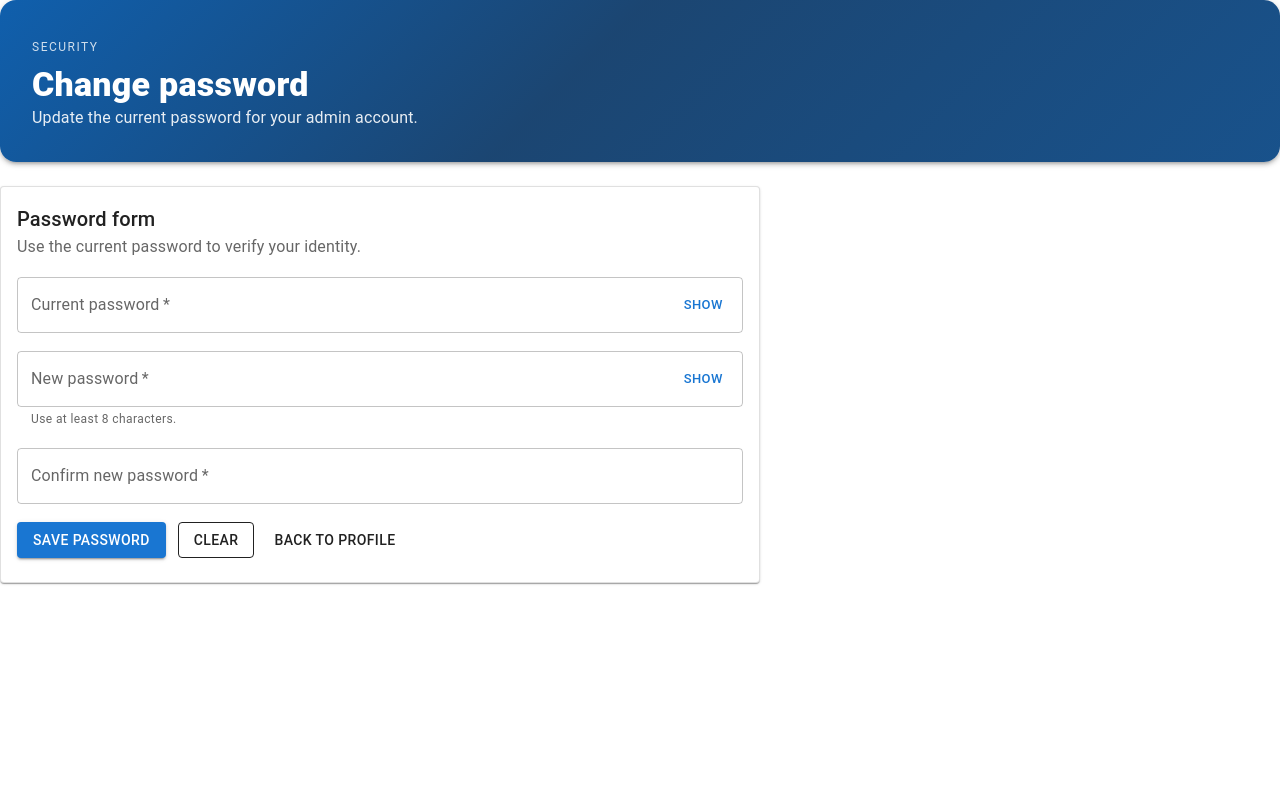
ChangePasswordPage › submits the password change form
Expected: the heading "Change password" is shown, [32, 64, 309, 104]
Type "OldPass123!" into the password field labelled "Current password *" at (347, 305), box [17, 277, 678, 333]
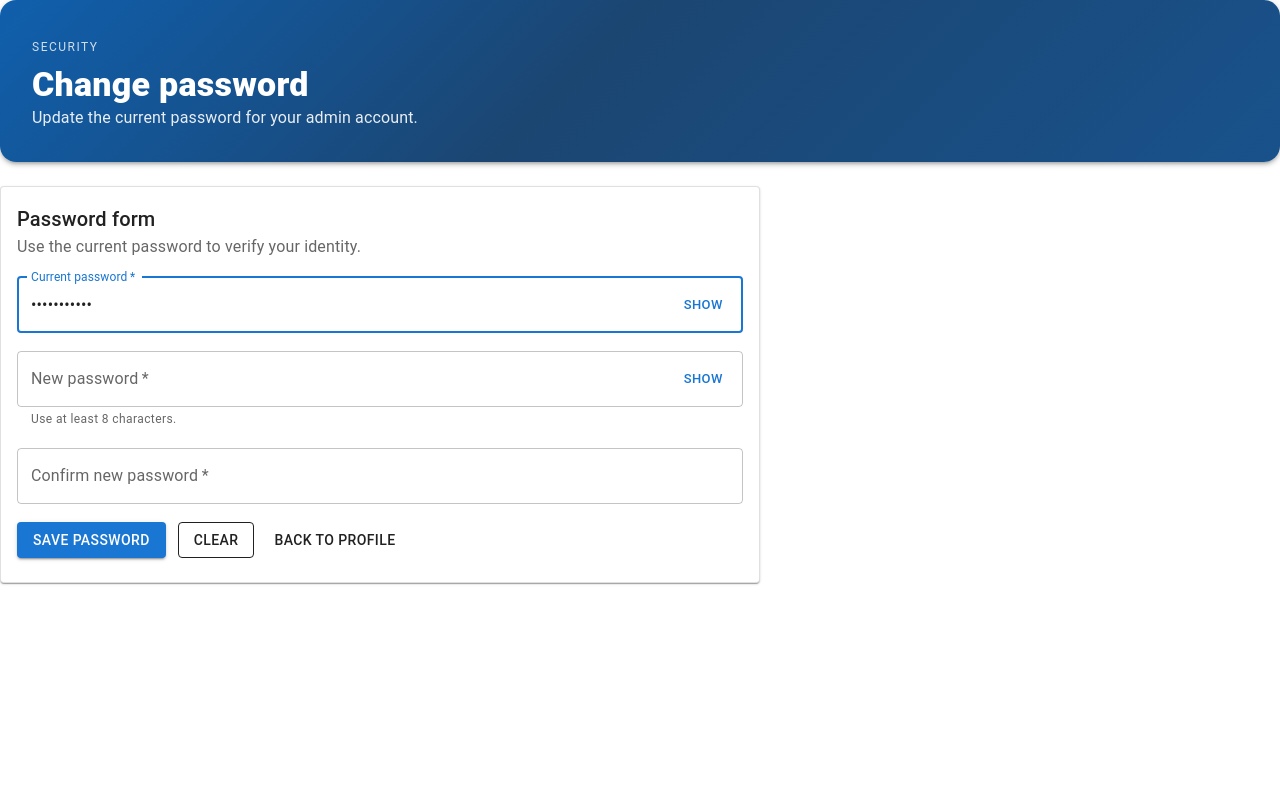
Type "NewPass123!" into the password field labelled "New password *" at (347, 379), box [17, 351, 678, 407]
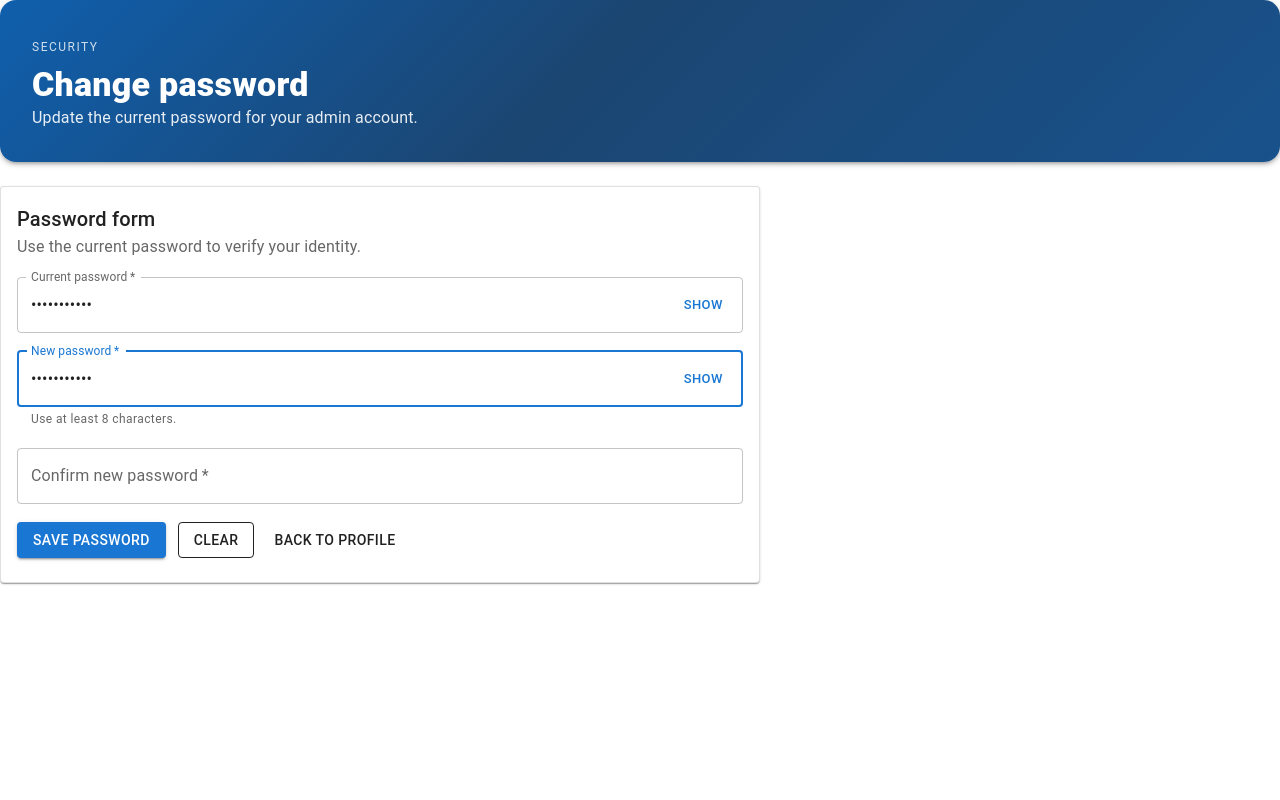
Type "NewPass123!" into the password field labelled "Confirm new password *" at (380, 476), box [17, 448, 743, 504]
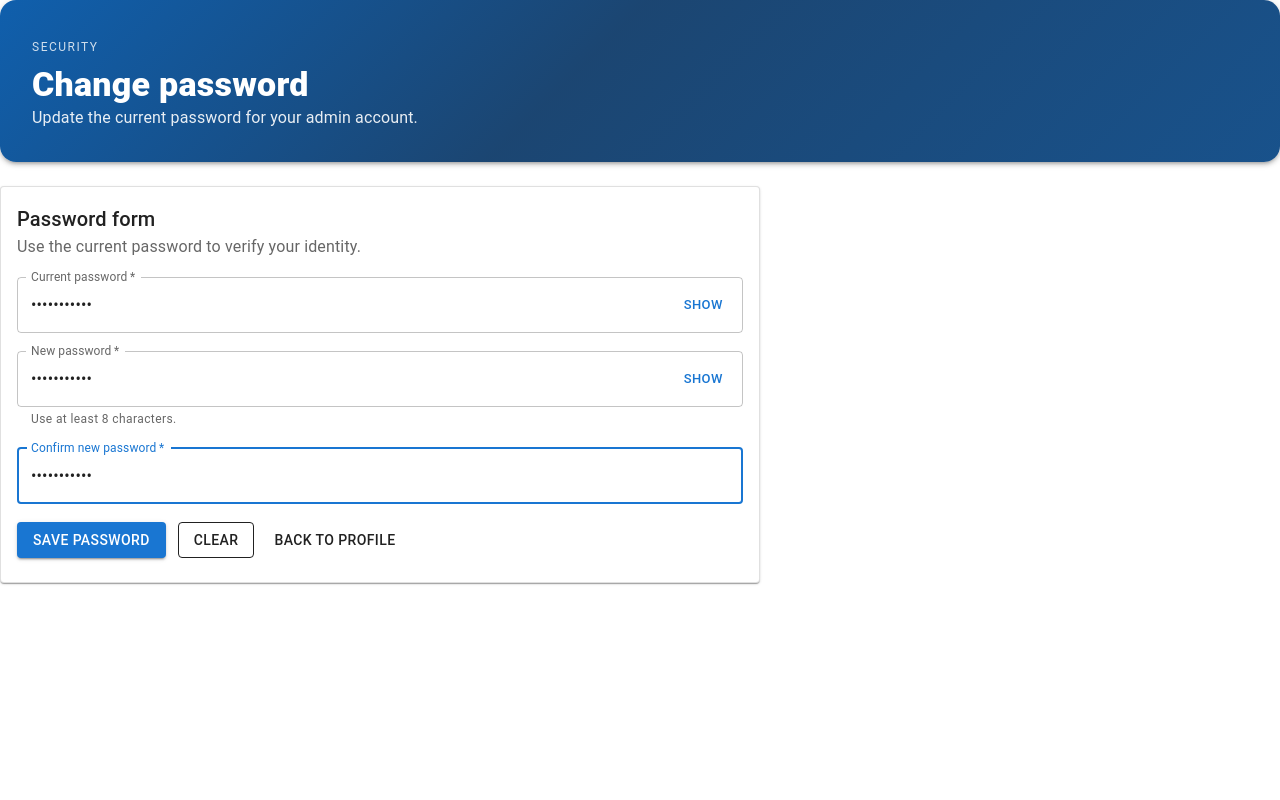
Click the button "Save password" at (91, 540), box [17, 522, 166, 558]
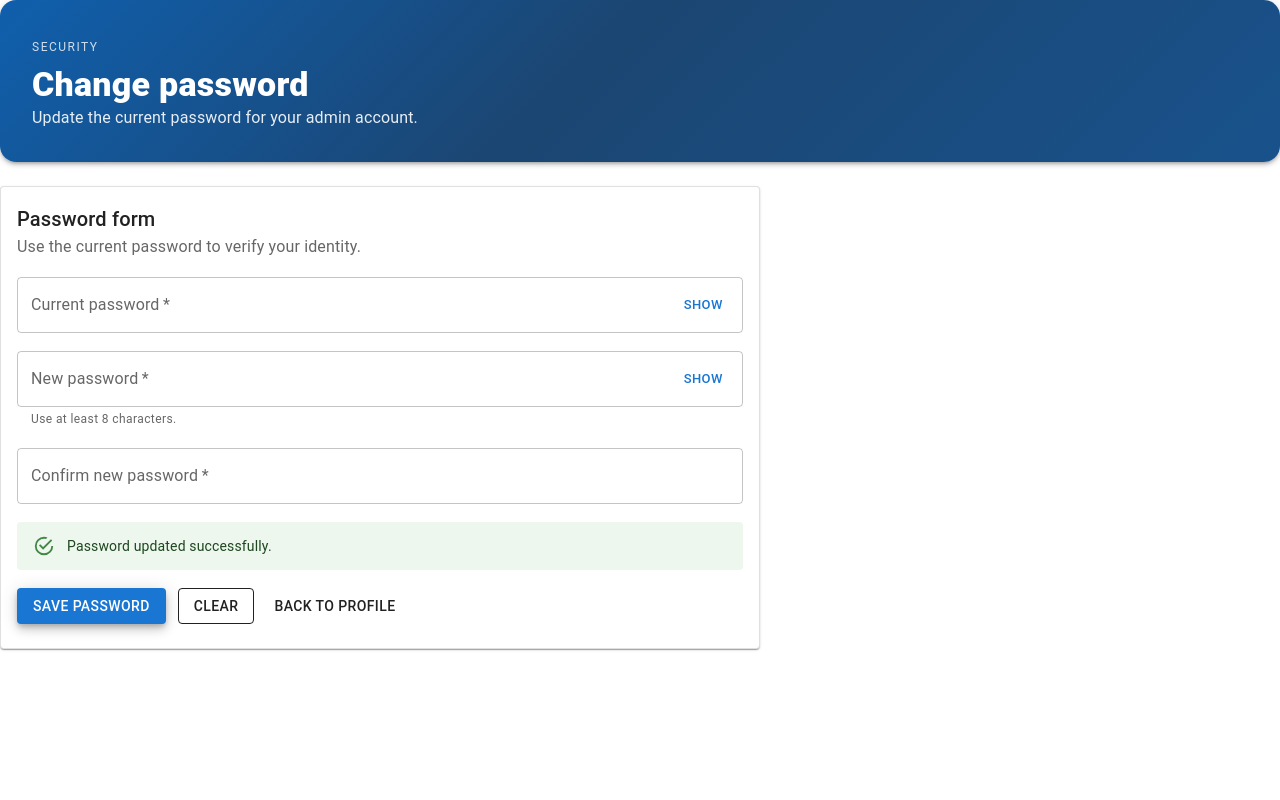
Expected: the button "Back to profile" is shown, [266, 588, 404, 624]
Result: the text "Password updated successfully." is shown at [67, 538, 272, 554]
